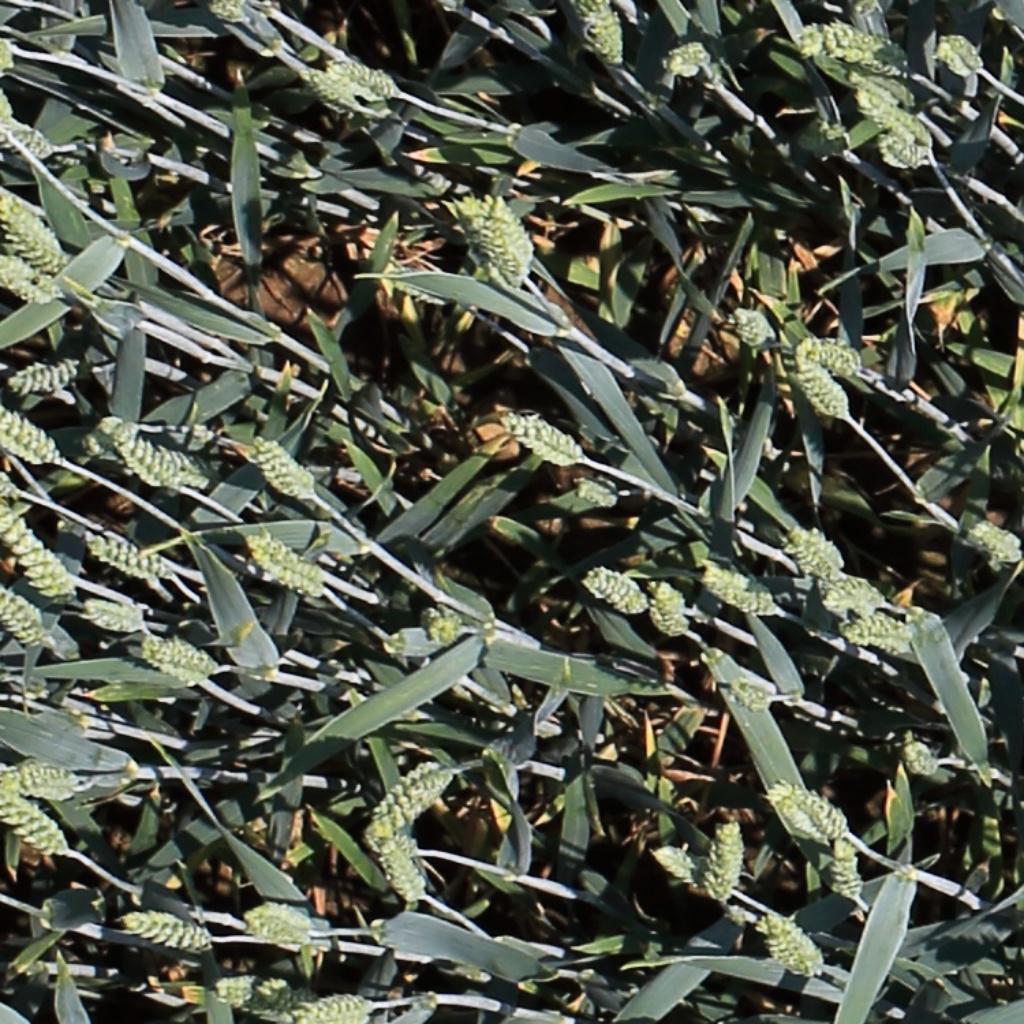0-0: (0, 495, 76, 600), (114, 897, 224, 957), (371, 763, 454, 838), (245, 536, 329, 607), (0, 181, 65, 271), (367, 821, 430, 912), (792, 17, 894, 72), (109, 425, 199, 487), (3, 796, 71, 875), (137, 630, 224, 691), (483, 192, 540, 284), (241, 894, 327, 953), (793, 344, 856, 423), (803, 572, 890, 626), (759, 909, 824, 980), (694, 817, 744, 909), (858, 88, 937, 146), (0, 751, 86, 803), (836, 615, 928, 662), (4, 354, 83, 408), (454, 189, 508, 267), (778, 785, 851, 842), (249, 436, 315, 498), (80, 532, 167, 578), (499, 413, 584, 460), (573, 566, 650, 617), (0, 401, 61, 465), (0, 582, 59, 648), (412, 595, 474, 657), (1, 103, 62, 166), (70, 589, 148, 638), (704, 569, 782, 617), (770, 791, 835, 847), (722, 303, 788, 358), (801, 326, 876, 374), (290, 60, 360, 111), (292, 977, 371, 1022), (817, 834, 864, 905), (790, 523, 847, 580), (581, 0, 628, 69), (326, 62, 403, 102), (648, 576, 692, 640), (879, 132, 941, 177), (927, 24, 978, 77), (1, 262, 61, 307), (846, 64, 917, 102), (645, 835, 699, 884), (663, 36, 717, 85), (727, 674, 779, 723), (574, 470, 624, 518), (899, 731, 943, 780), (208, 971, 266, 1008), (970, 522, 1022, 562), (211, 1, 247, 23)
